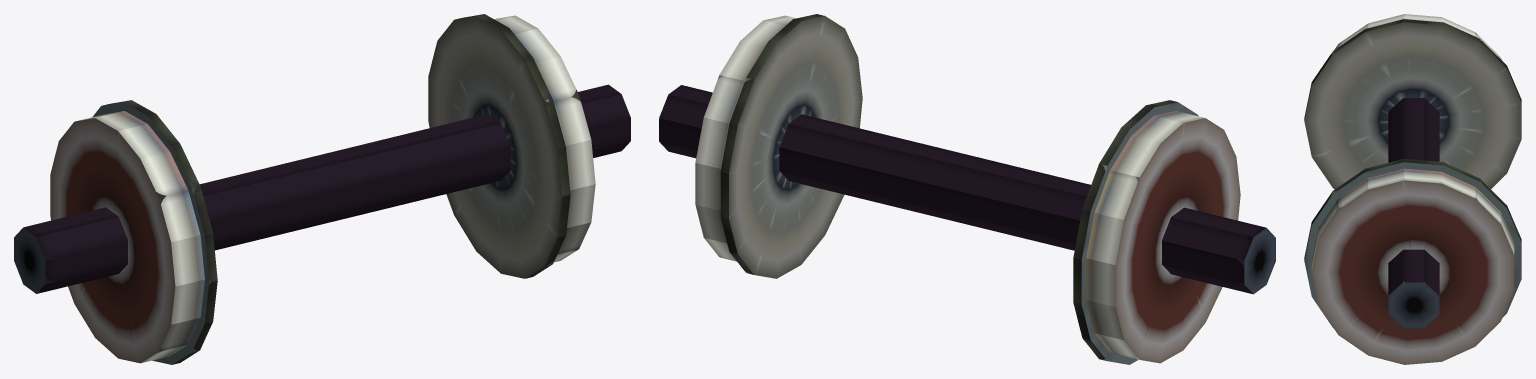
The model's file is jy290_wheel.obj.
The picture shows the model from 3 angles, left to right: view 1: azimuth 30°, elevation 25°; view 2: azimuth 150°, elevation 25°; view 3: azimuth 270°, elevation 25°; orthographic projection. The views are drawn at different scales.
Parts seen in each view (by area): view 1: lunzi; view 2: lunzi; view 3: lunzi.
Boxes of the visible parts, x1,y1,x2,y2 form: lunzi: (14, 14, 630, 364); lunzi: (659, 14, 1275, 364); lunzi: (1304, 14, 1521, 364).
Size of the model in its own units: 2.29 by 0.9117 by 0.9078.
